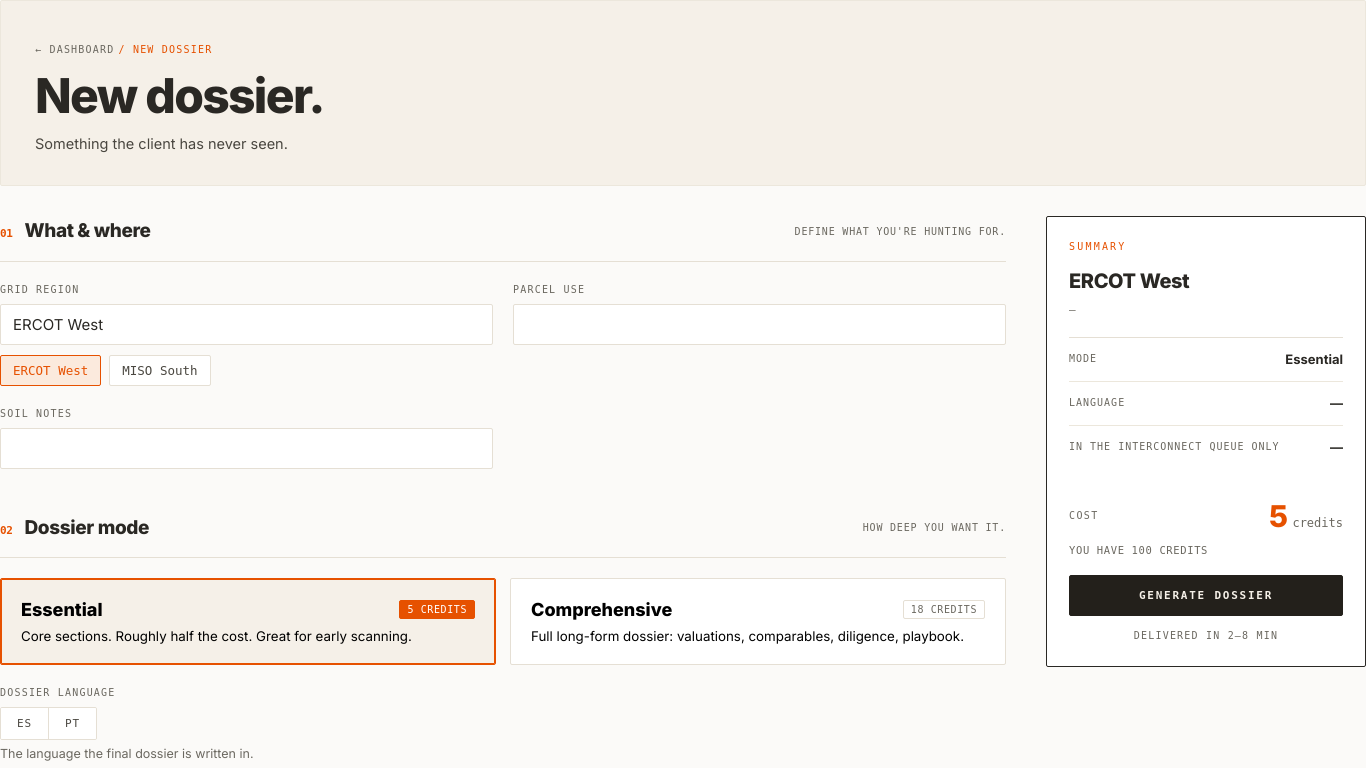
Scenario: the directive block comes entirely from the manifest › states on the last screen only what the MANIFEST declares — deduped, cut at the cap, and no bare string for a boolean (round 10, R10-21/R10-36)
This screenshot has width=1366, height=768.
Click the button "Generate dossier" at x=1206, y=596, box [1069, 575, 1343, 616]
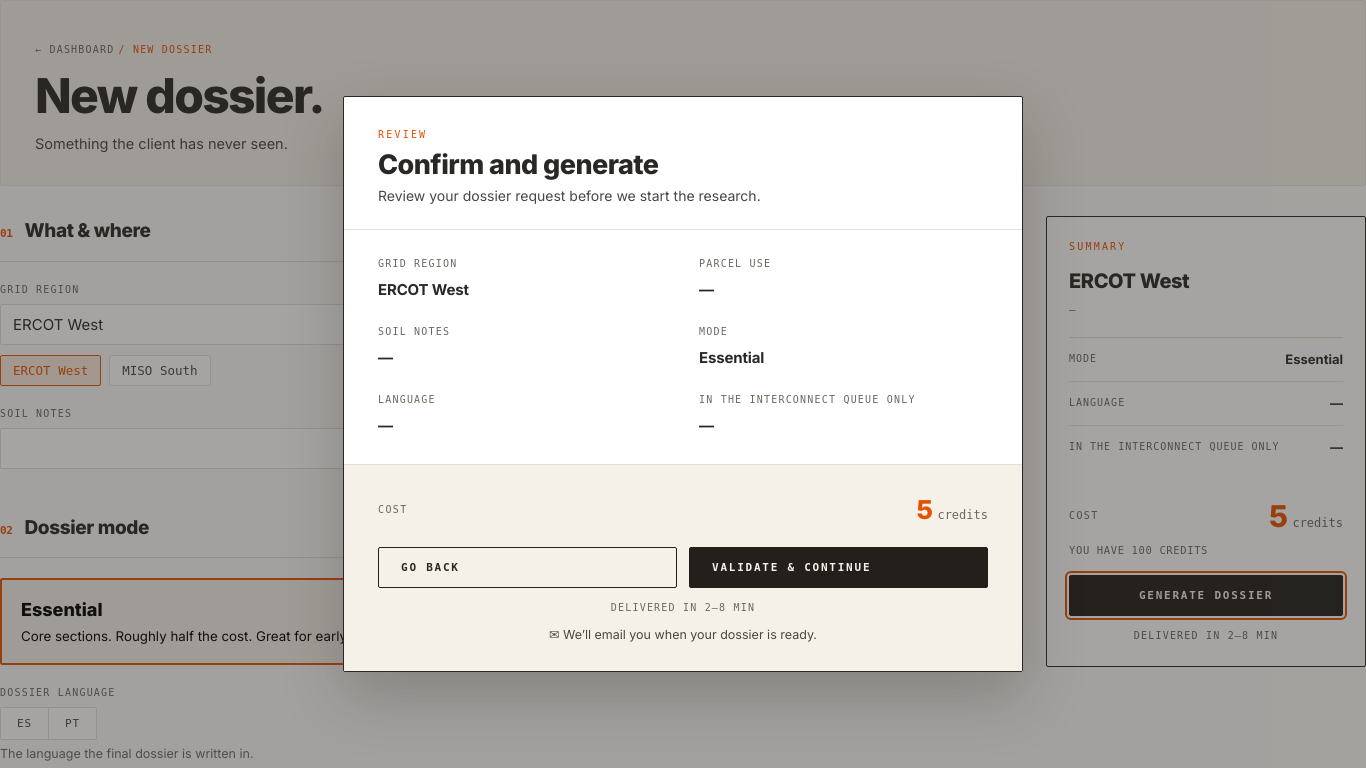
Click the button "Validate & continue" at x=838, y=568, box [689, 547, 988, 588]
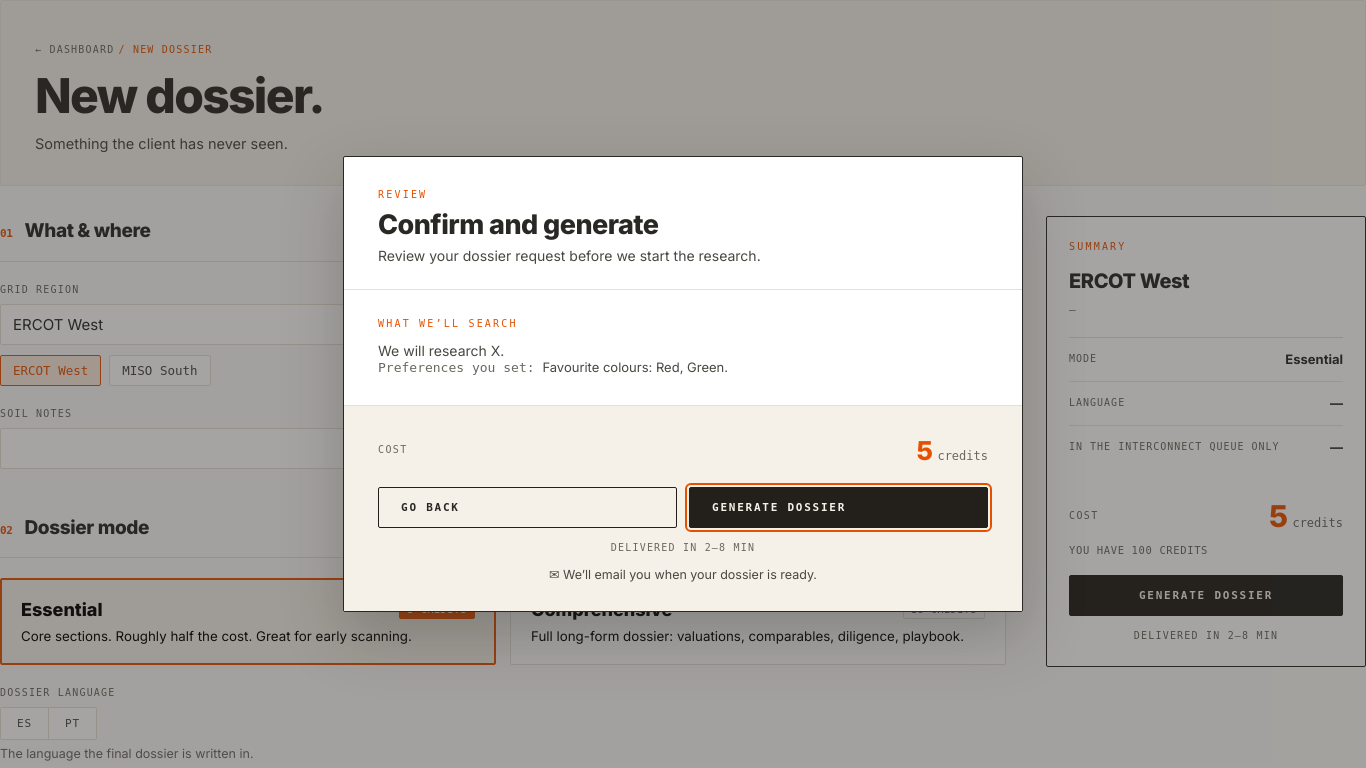
Check: the element with test id "confirm-prefs" shows "Favourite colours: Red, Green", box [542, 359, 724, 375]
